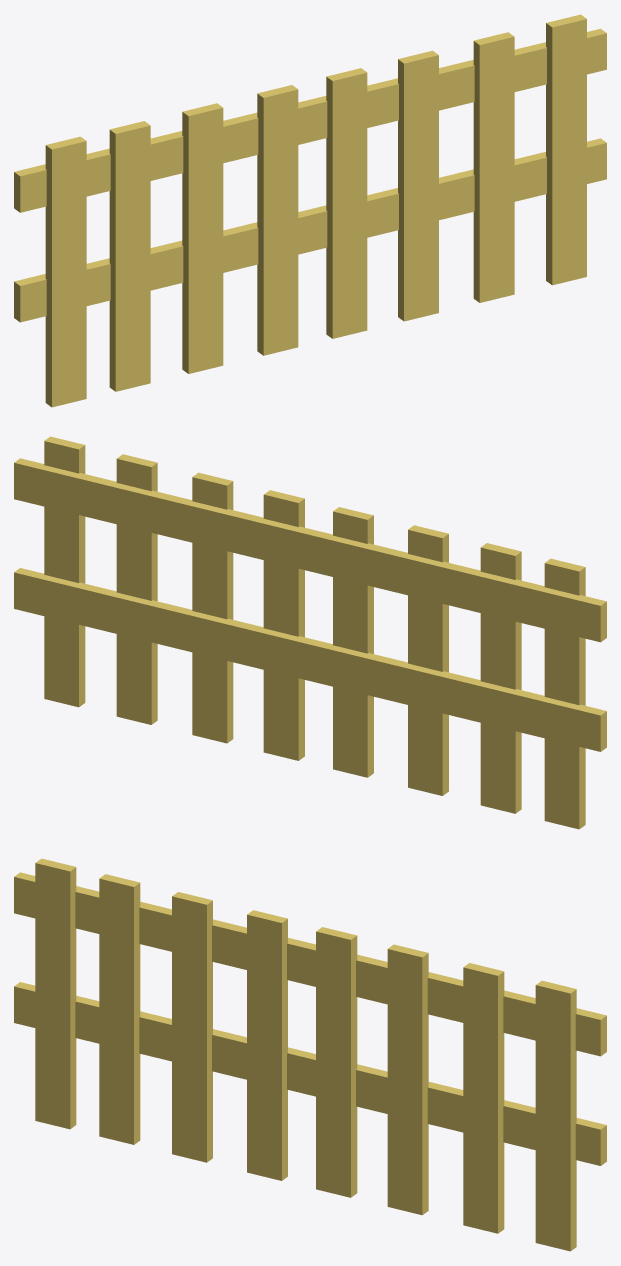
Rendered from Fence1.fbx.
The picture shows the model from 3 angles, top to bottom: view 1: azimuth 30°, elevation 25°; view 2: azimuth 150°, elevation 25°; view 3: azimuth 330°, elevation 25°; orthographic projection.
Visible parts, largest first — view 1: Cube, Cube.001, Cube.006, Cube.005, Cube.003, Cube.007, Cube.009, Cube.008, Cube.002, Cube.004; view 2: Cube, Cube.001, Cube.003, Cube.004, Cube.005, Cube.008, Cube.009, Cube.002, Cube.007, Cube.006; view 3: Cube, Cube.001, Cube.002, Cube.004, Cube.003, Cube.008, Cube.009, Cube.005, Cube.007, Cube.006.
Boxes of the visible parts, x1,y1,x2,y2 form: Cube: (14, 28, 606, 212); Cube.001: (14, 138, 606, 322); Cube.006: (257, 85, 298, 355); Cube.005: (326, 68, 367, 338); Cube.003: (473, 32, 514, 302); Cube.007: (182, 103, 223, 373); Cube.009: (45, 136, 86, 407); Cube.008: (109, 121, 150, 391); Cube.002: (546, 14, 586, 285); Cube.004: (398, 50, 438, 321); Cube: (14, 458, 606, 642); Cube.001: (14, 568, 606, 751); Cube.003: (116, 454, 157, 724); Cube.004: (192, 472, 233, 743); Cube.005: (263, 490, 304, 760); Cube.008: (480, 543, 521, 813); Cube.009: (544, 558, 585, 829); Cube.002: (44, 436, 85, 707); Cube.007: (408, 525, 448, 795); Cube.006: (333, 507, 373, 777); Cube: (14, 872, 606, 1056); Cube.001: (14, 982, 606, 1165); Cube.002: (535, 980, 576, 1251); Cube.004: (387, 944, 428, 1215); Cube.003: (463, 963, 504, 1233); Cube.008: (99, 874, 140, 1144); Cube.009: (35, 858, 76, 1129); Cube.005: (316, 927, 357, 1197); Cube.007: (172, 892, 212, 1162); Cube.006: (247, 910, 287, 1180).
Size of the model in its own units: 5764 by 2421 by 193.
